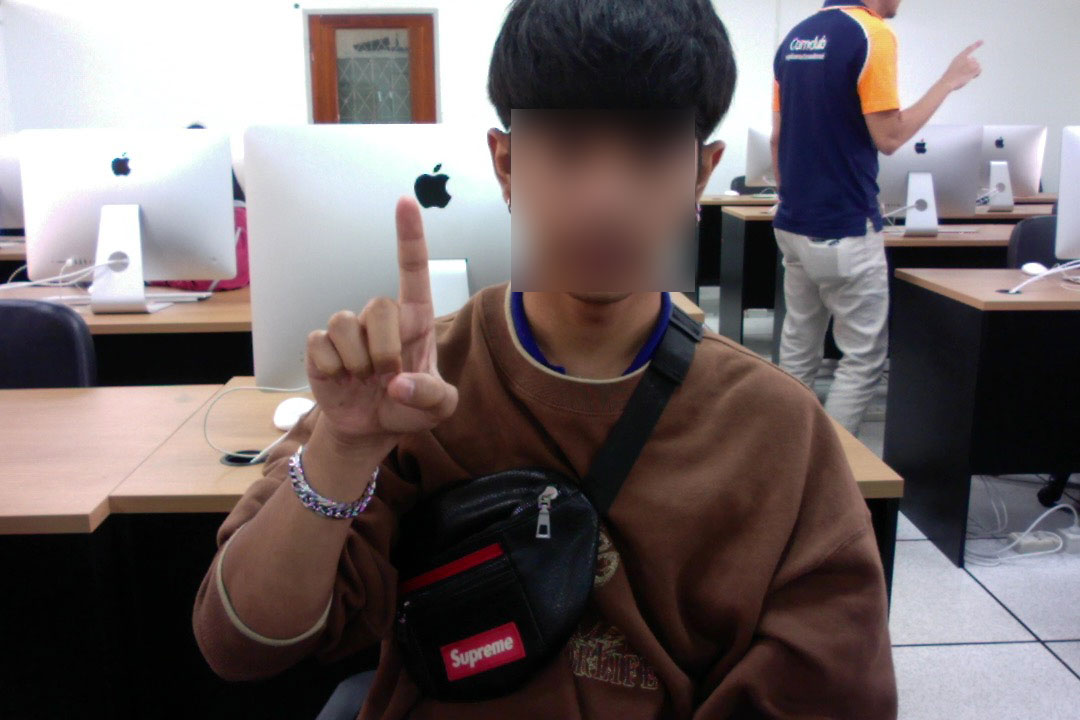dor: (288, 187, 466, 453)
